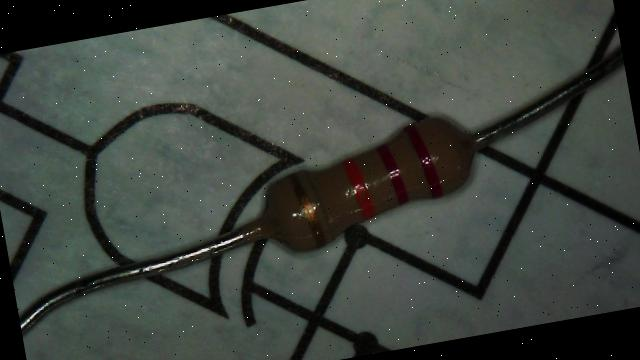gold: (290, 170, 328, 248)
orange: (341, 154, 376, 222)
red: (406, 122, 444, 200), (376, 142, 410, 206)
resistor: (237, 83, 502, 272)
